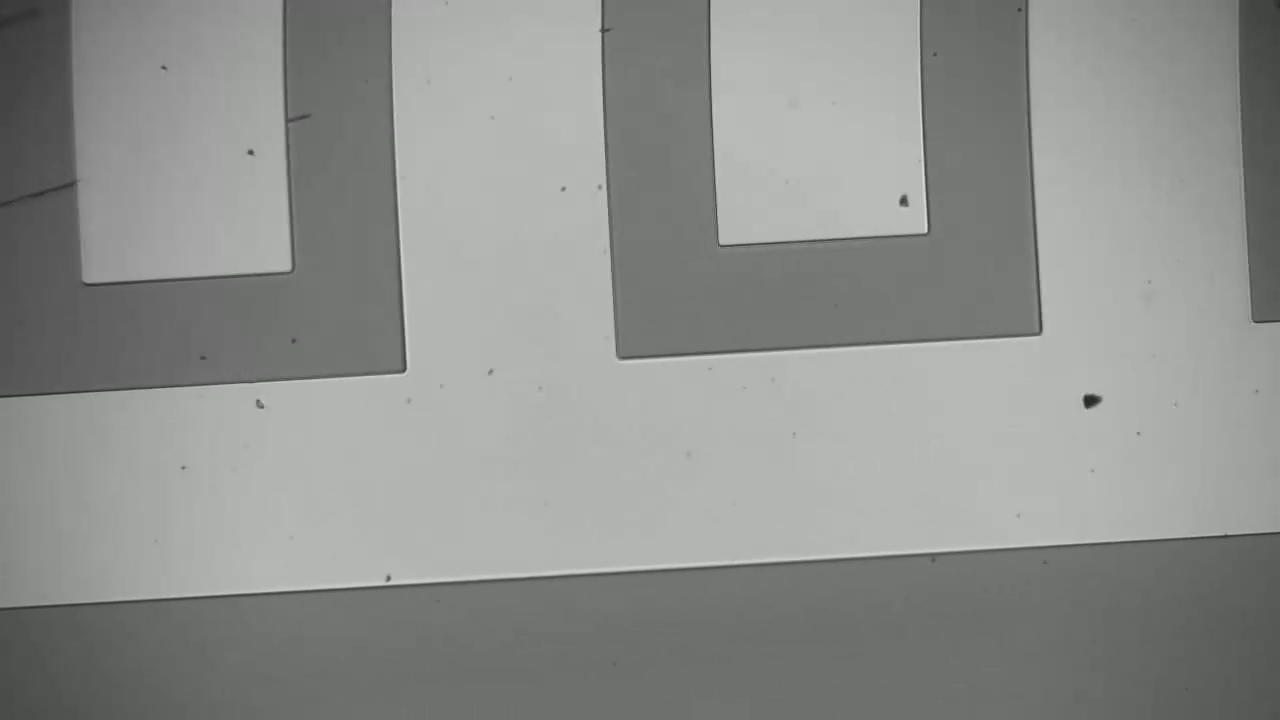scratch: (4, 180, 70, 199)
